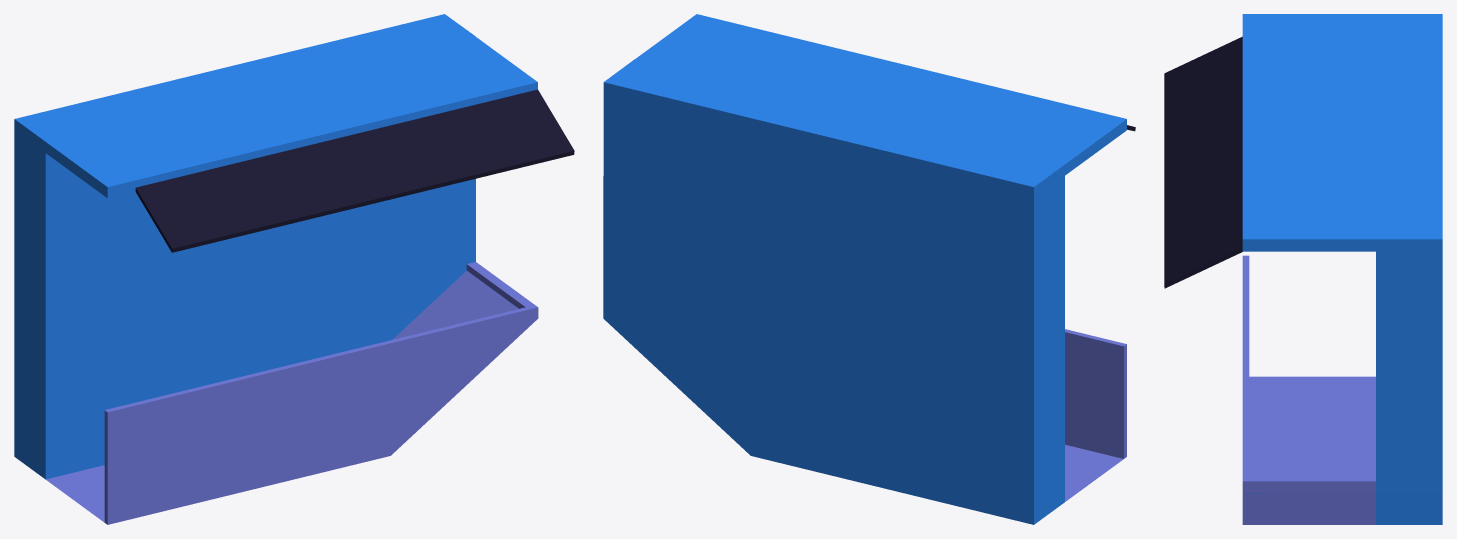
3 views of the same model, side by side, from view 1: azimuth 30°, elevation 25°; view 2: azimuth 150°, elevation 25°; view 3: azimuth 270°, elevation 25° (orthographic). The views are drawn at different scales.
Visible parts, largest first — view 1: Mesh_0.007; view 2: Mesh_0.007; view 3: Mesh_0.007.
Boxes of the visible parts, box(x1,y1,x2,y2) form: Mesh_0.007: box(14, 14, 574, 524); Mesh_0.007: box(603, 14, 1135, 524); Mesh_0.007: box(1164, 14, 1442, 524).
Bounding box in the file's own units: 4 × 3 × 2.09.
